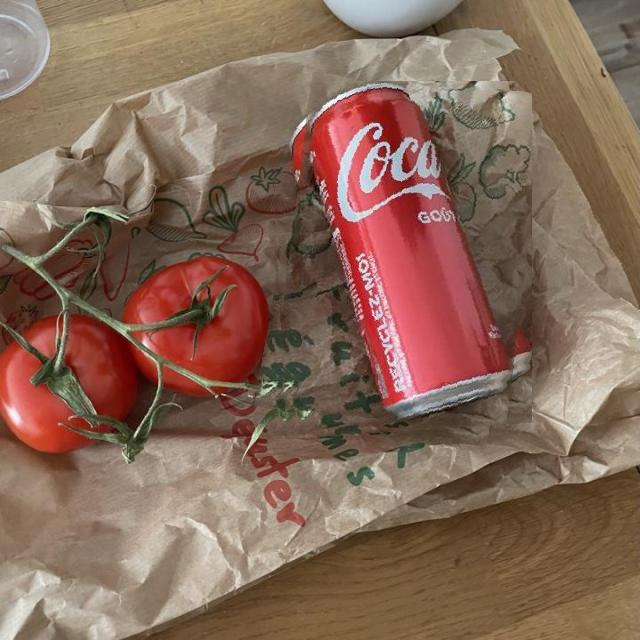recyclable: (268, 81, 532, 439)
